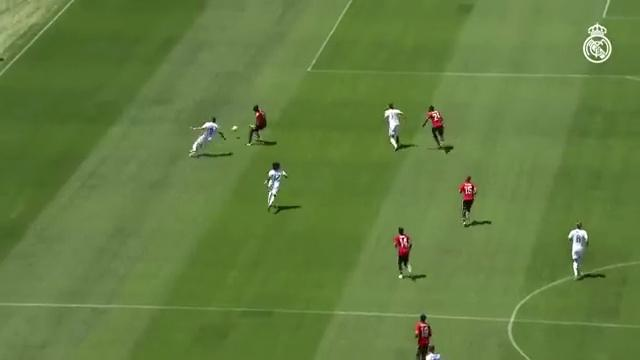football: (231, 126, 237, 130)
player: (189, 117, 225, 156), (568, 222, 587, 279), (265, 162, 287, 210), (422, 105, 444, 147), (384, 103, 403, 150), (394, 227, 411, 278), (459, 176, 476, 226), (414, 314, 431, 359), (247, 105, 266, 145), (425, 344, 440, 359)
